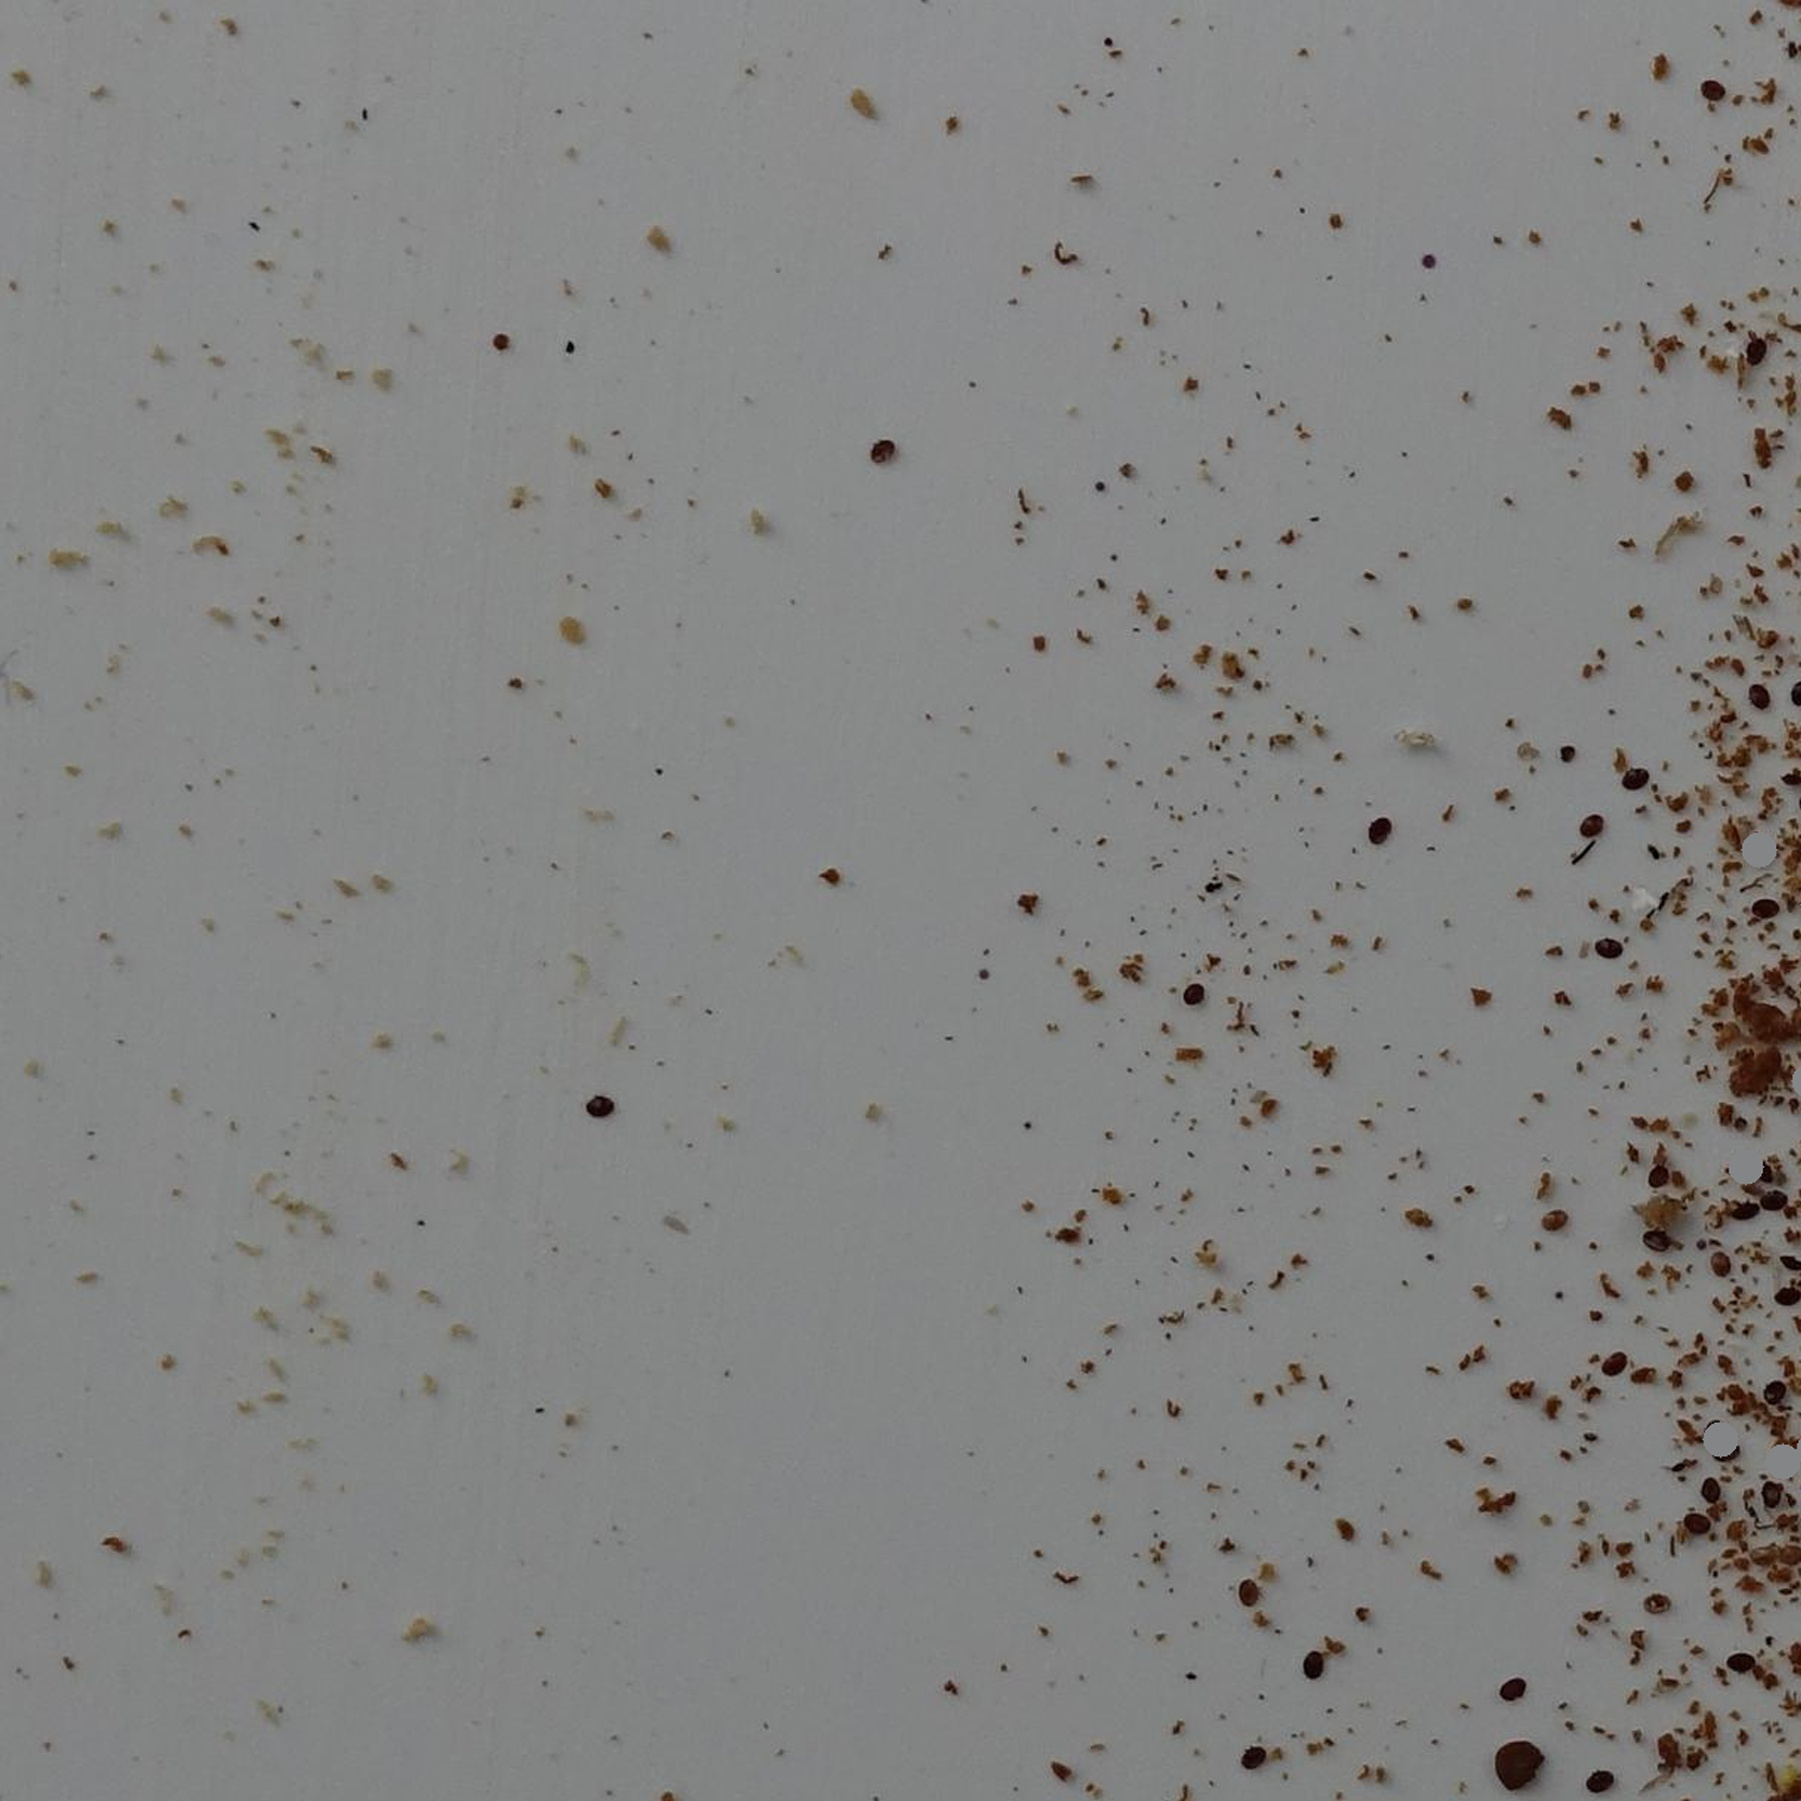Varroa: (1760, 1187, 1793, 1220), (1687, 1474, 1719, 1507), (1715, 1440, 1747, 1473), (1641, 1222, 1671, 1253), (1725, 1191, 1755, 1220), (1761, 1375, 1791, 1405), (1646, 1588, 1676, 1618), (866, 439, 896, 468), (1499, 1677, 1527, 1705), (1367, 821, 1395, 849), (1748, 891, 1776, 919), (1239, 1738, 1265, 1766), (1593, 925, 1620, 953), (1761, 1483, 1789, 1509), (1682, 1512, 1709, 1539), (1732, 1648, 1758, 1674), (1301, 1644, 1328, 1671), (1621, 760, 1648, 787), (1583, 810, 1610, 835), (1700, 1248, 1727, 1273), (585, 1090, 610, 1117), (1545, 1207, 1570, 1234), (1648, 1164, 1672, 1191), (1742, 332, 1766, 356), (1587, 1760, 1611, 1785), (1752, 683, 1776, 708), (1184, 976, 1207, 1003), (1603, 1347, 1626, 1371), (1235, 1582, 1258, 1605), (1702, 73, 1725, 96)
